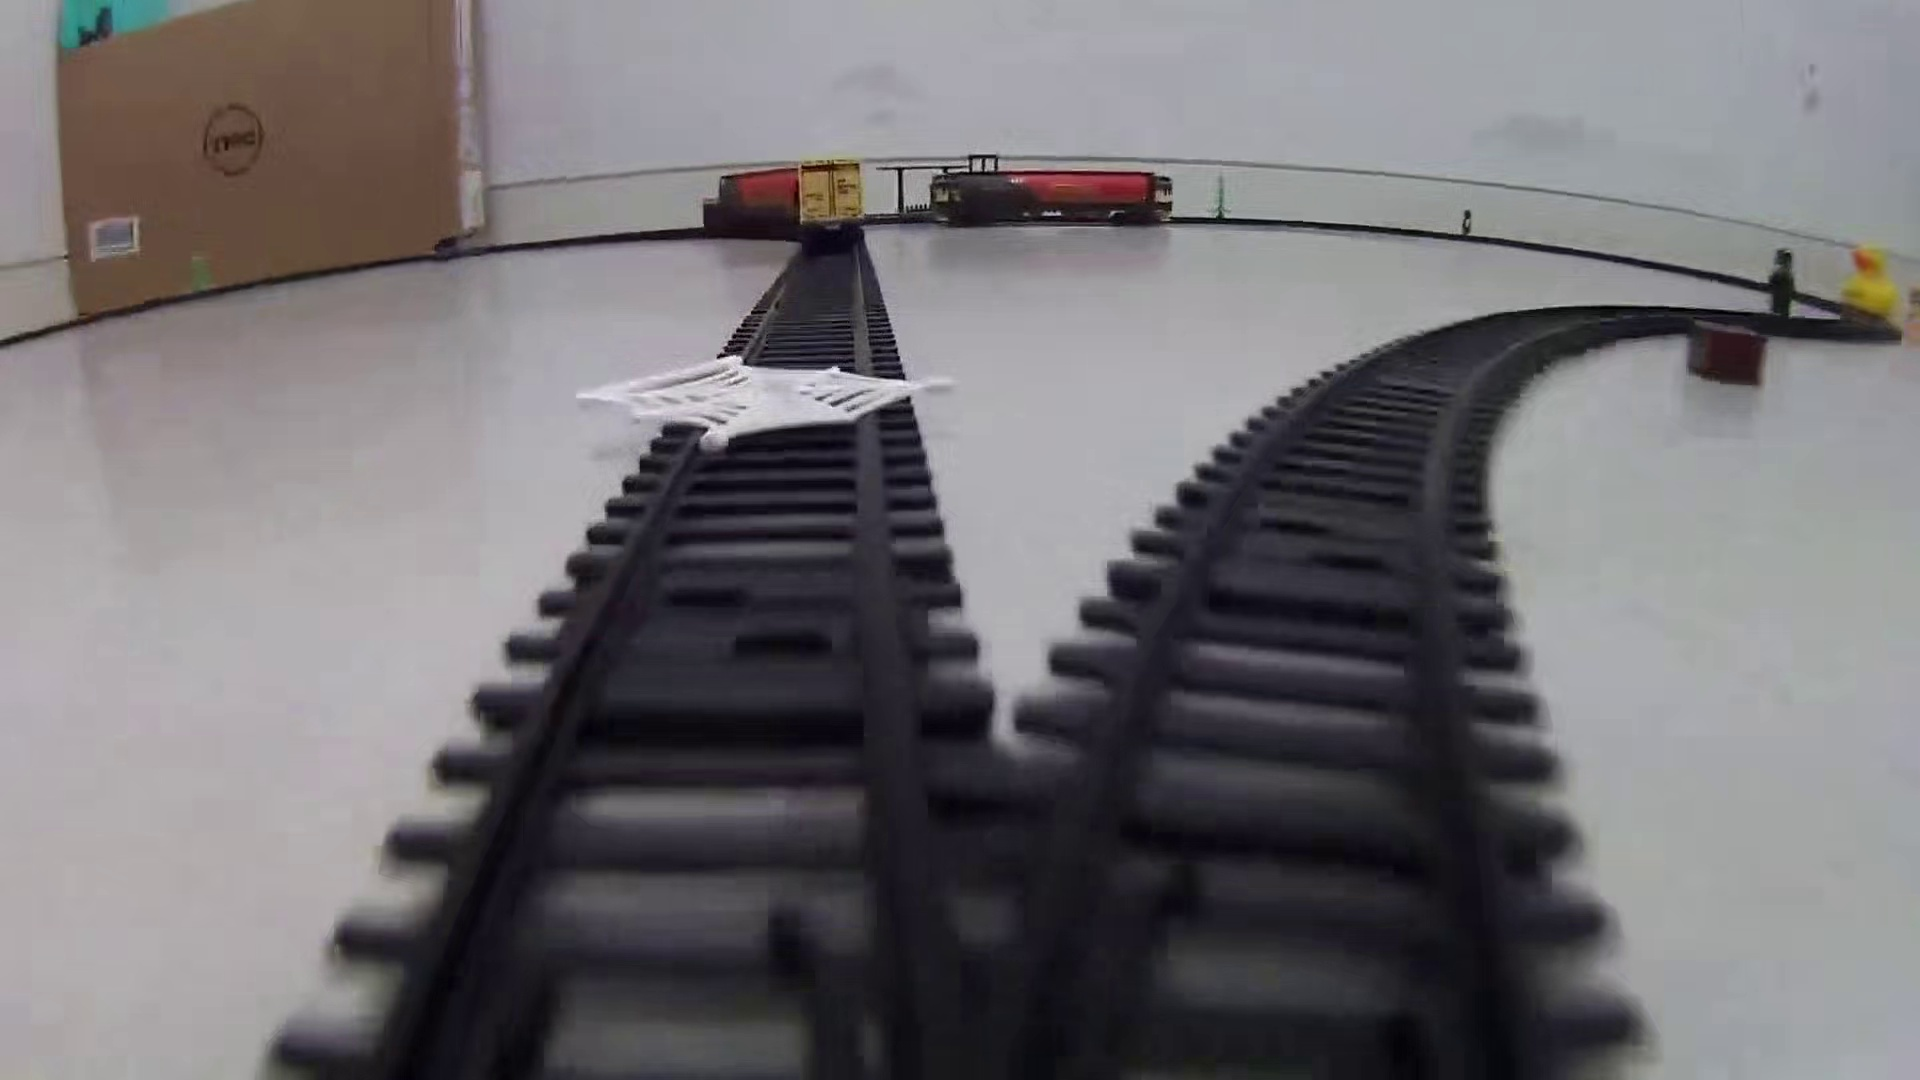box: (1682, 318, 1770, 394)
people: (1757, 242, 1801, 333), (1455, 206, 1477, 238)
tree: (1200, 170, 1234, 227)
web: (569, 354, 961, 453)
